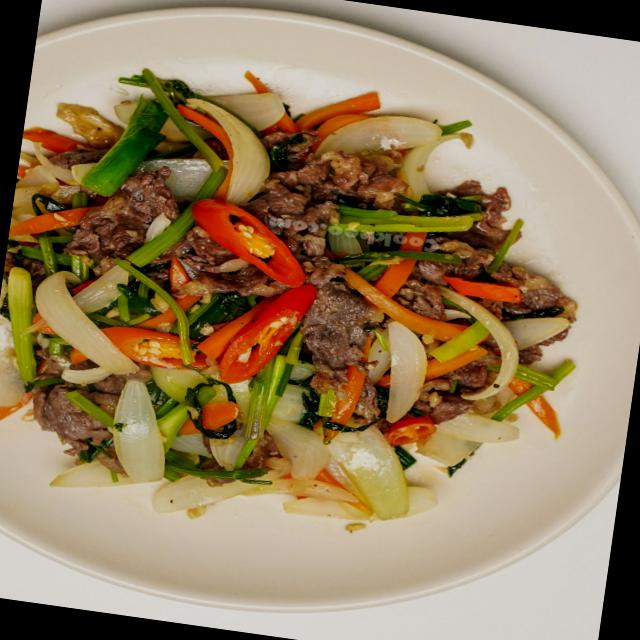bo xao: (0, 67, 579, 537)
